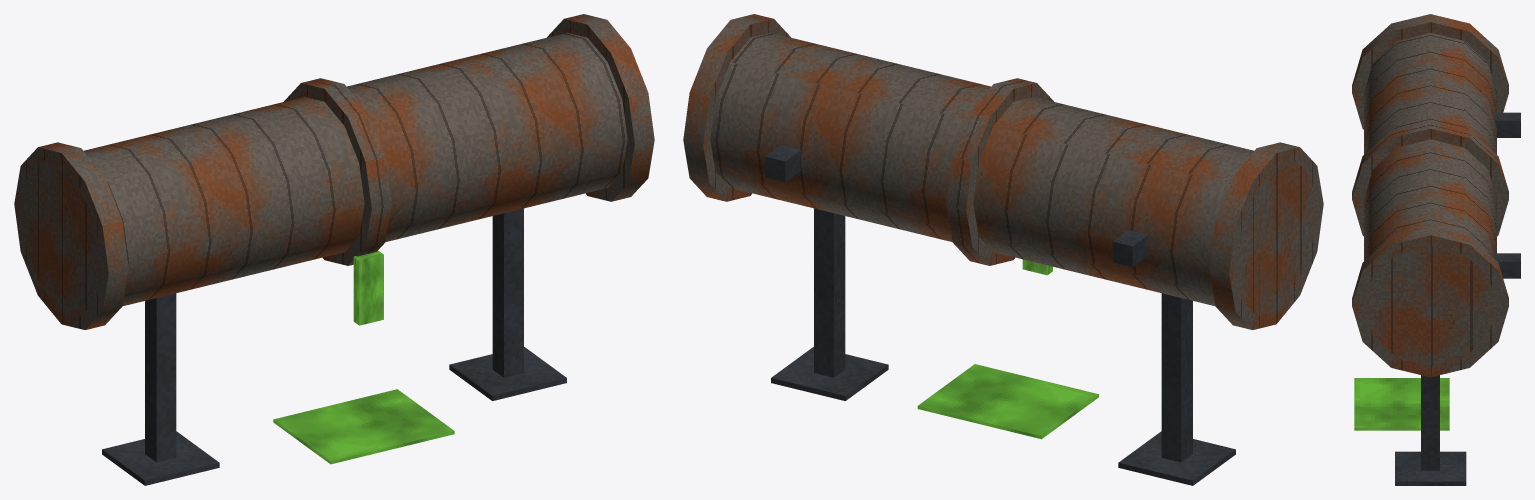
File: tfg_sewer_pipe.glb
The picture shows the model from 3 angles, left to right: view 1: azimuth 30°, elevation 25°; view 2: azimuth 150°, elevation 25°; view 3: azimuth 270°, elevation 25°; orthographic projection. The views are drawn at different scales.
Parts seen in each view (by area): view 1: tfg_sewer_pipe; view 2: tfg_sewer_pipe; view 3: tfg_sewer_pipe.
Boxes of the visible parts, x1=… form: tfg_sewer_pipe: x1=14, y1=14, x2=654, y2=485; tfg_sewer_pipe: x1=683, y1=14, x2=1323, y2=485; tfg_sewer_pipe: x1=1352, y1=14, x2=1520, y2=485.
Size of the model in its own units: 2.2 by 1.28 by 0.71.
3 materials, 3 textured.
